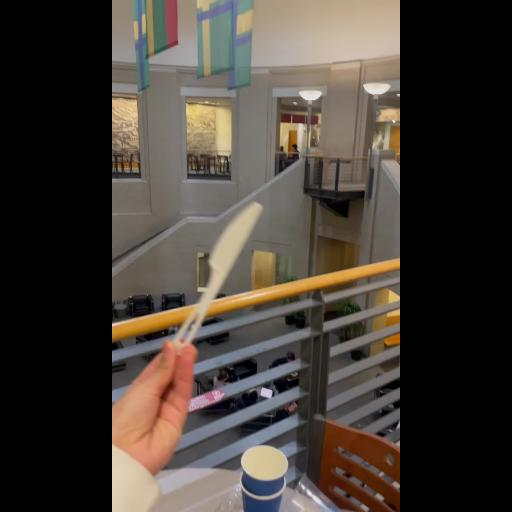utensil: (170, 202, 264, 344)
